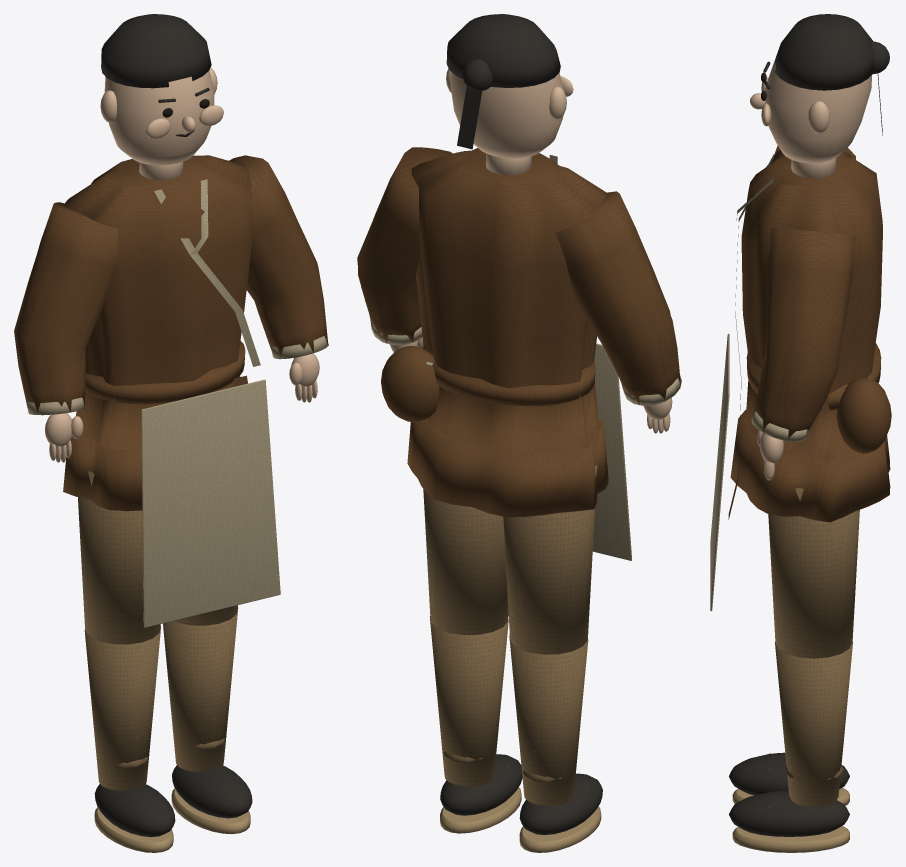
The model's file is vendor-closeup.glb.
The picture shows the model from 3 angles, left to right: view 1: azimuth 30°, elevation 25°; view 2: azimuth 150°, elevation 25°; view 3: azimuth 270°, elevation 25°; orthographic projection. The views are drawn at different scales.
Parts seen in each view (by area): view 1: person_vendor__body, person_vendor__leg_left, person_vendor__arm_left, person_vendor__head, person_vendor__arm_right, person_vendor__leg_right, person_vendor__foot_right, person_vendor__foot_left; view 2: person_vendor__body, person_vendor__leg_left, person_vendor__leg_right, person_vendor__arm_left, person_vendor__head, person_vendor__arm_right, person_vendor__foot_left, person_vendor__foot_right, person_vendor__props; view 3: person_vendor__body, person_vendor__leg_right, person_vendor__arm_right, person_vendor__head, person_vendor__foot_right, person_vendor__props, person_vendor__foot_left.
Part boxes in pixels (box(x1,y1,x2,y2)): person_vendor__body: box(63, 155, 280, 627); person_vendor__leg_left: box(78, 471, 160, 790); person_vendor__arm_left: box(14, 202, 118, 462); person_vendor__head: box(100, 14, 223, 180); person_vendor__arm_right: box(229, 155, 328, 402); person_vendor__leg_right: box(163, 605, 238, 772); person_vendor__foot_right: box(171, 765, 252, 833); person_vendor__foot_left: box(94, 784, 175, 852); person_vendor__body: box(407, 148, 631, 560); person_vendor__leg_left: box(503, 465, 597, 805); person_vendor__leg_right: box(423, 489, 508, 786); person_vendor__arm_left: box(555, 191, 681, 433); person_vendor__head: box(446, 14, 573, 175); person_vendor__arm_right: box(357, 147, 452, 352); person_vendor__foot_left: box(519, 773, 602, 852); person_vendor__foot_right: box(440, 754, 522, 833); person_vendor__props: box(381, 346, 439, 422); person_vendor__body: box(710, 150, 890, 611); person_vendor__leg_right: box(768, 488, 859, 807); person_vendor__arm_right: box(751, 228, 856, 480); person_vendor__head: box(750, 14, 889, 178); person_vendor__foot_right: box(729, 790, 849, 852); person_vendor__props: box(836, 377, 891, 453); person_vendor__foot_left: box(729, 752, 849, 805).
Size of the model in its own units: 0.698 by 1.76 by 0.3618.
7 materials, 3 textured.
